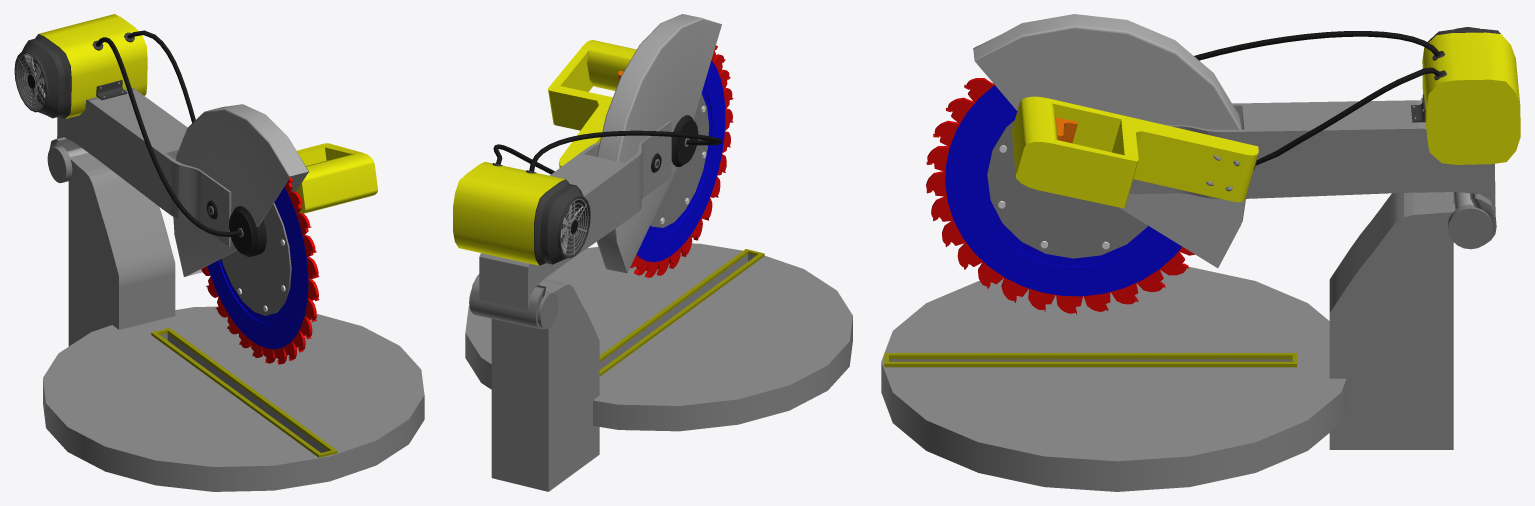
The model's file is Saw.fbx.
3 renders of one model, left to right at view 1: azimuth 30°, elevation 25°; view 2: azimuth 150°, elevation 25°; view 3: azimuth 270°, elevation 25°, orthographic. The views are drawn at different scales.
Visible parts, largest first — view 1: SawTable, SawRoot, SawCover, Engine, MDL_SawBlade, SawArm, SawCenter, SawArmToSawBladeConnector, HandleRoot1, SawTableEntrance, PowerCableSaw, SawbladeRotator (+3 smaller); view 2: SawTable, SawRoot, SawCover, Engine, SawArm, MDL_SawBlade, HandleRoot, SawArmToSawBladeConnector, SawCenter, SawTableEntrance, HandleRoot1, AxelCover (+3 smaller); view 3: SawTable, SawRoot, SawCover, MDL_SawBlade, SawArm, HandleRoot, Engine, SawCenter, SawTableEntrance, HandleRoot1, PowerCableSaw, AxelScrew1 (+2 smaller).
Part boxes in pixels (box(x1,y1,x2,y2)): SawTable: box(43, 306, 424, 491); SawRoot: box(68, 153, 175, 346); SawCover: box(173, 104, 308, 276); Engine: box(14, 14, 147, 118); MDL_SawBlade: box(201, 176, 319, 364); SawArm: box(57, 87, 187, 208); SawCenter: box(221, 203, 291, 315); SawArmToSawBladeConnector: box(161, 153, 231, 246); HandleRoot1: box(303, 153, 376, 213); SawTableEntrance: box(151, 328, 337, 457); PowerCableSaw: box(96, 37, 241, 236); SawbladeRotator: box(229, 206, 266, 256); SawTable: box(465, 243, 852, 431); SawRoot: box(491, 279, 599, 491); SawCover: box(597, 14, 721, 273); Engine: box(453, 162, 590, 265); SawArm: box(479, 153, 628, 309); MDL_SawBlade: box(630, 45, 733, 277); HandleRoot: box(548, 40, 612, 167); SawArmToSawBladeConnector: box(580, 121, 671, 219); SawCenter: box(650, 93, 709, 227); SawTableEntrance: box(599, 249, 764, 376); HandleRoot1: box(586, 40, 636, 90); AxelCover: box(470, 274, 546, 329); SawTable: box(881, 267, 1346, 491); SawRoot: box(1329, 192, 1455, 449); SawCover: box(973, 14, 1245, 268); MDL_SawBlade: box(926, 78, 1194, 314); SawArm: box(1242, 100, 1495, 213); HandleRoot: box(1016, 97, 1258, 207); Engine: box(1422, 27, 1520, 164); SawCenter: box(987, 120, 1147, 258); SawTableEntrance: box(884, 353, 1296, 367); HandleRoot1: box(1011, 96, 1057, 178); PowerCableSaw: box(1194, 31, 1440, 60); AxelScrew1: box(1447, 204, 1493, 249).
Bounding box in the file's own units: 3.8 × 3.71 × 5.16.
